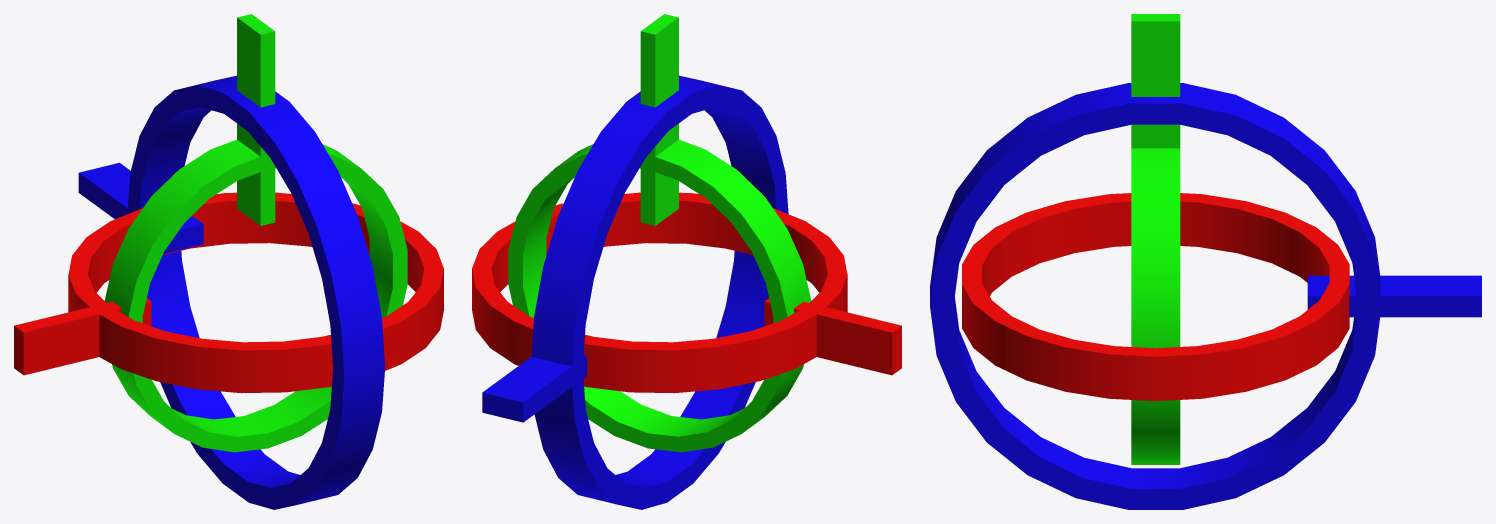
The model's file is HC_Gimbal_01.FBX.
The picture shows the model from 3 angles, left to right: view 1: azimuth 30°, elevation 25°; view 2: azimuth 150°, elevation 25°; view 3: azimuth 270°, elevation 25°; orthographic projection. The views are drawn at different scales.
Parts seen in each view (by area): view 1: X, Z, Y; view 2: X, Z, Y; view 3: X, Z, Y.
Boxes of the visible parts, x1,y1,x2,y2 form: X: [78, 75, 385, 509]; Z: [14, 192, 443, 393]; Y: [104, 14, 407, 452]; X: [482, 75, 788, 509]; Z: [472, 192, 901, 393]; Y: [508, 14, 811, 452]; X: [930, 83, 1481, 509]; Z: [962, 193, 1349, 401]; Y: [1131, 14, 1180, 464].
Size of the model in its own units: 0.7054 by 0.7818 by 0.8115.
